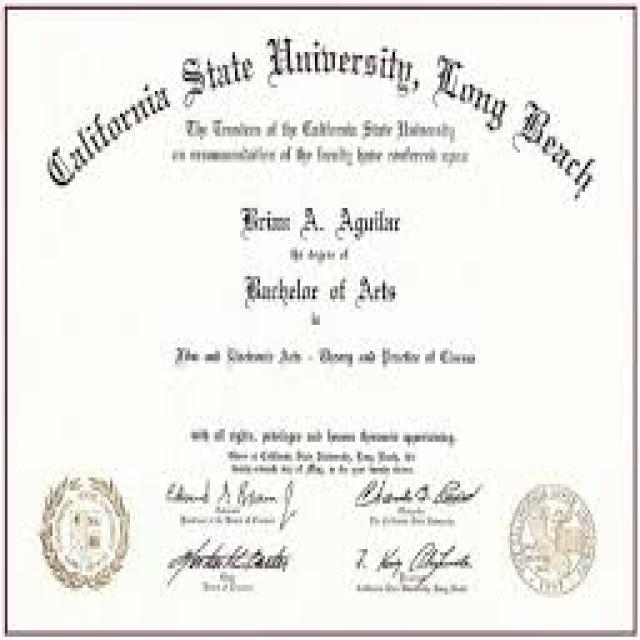degree: (245, 268, 401, 313)
signature: (349, 531, 482, 603), (163, 535, 298, 603), (163, 476, 301, 532), (351, 481, 486, 530)
stamp: (515, 473, 602, 609)
